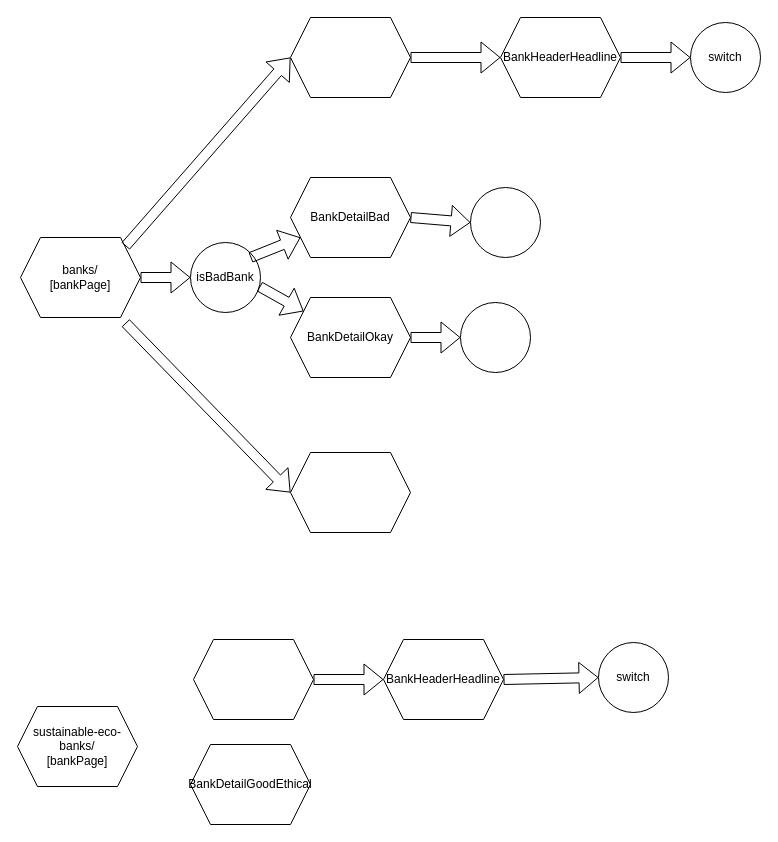
The diagram is 778 pixels wide and 842 high, and some of its shapes have lost their labels. Each missing label, with the box of its shape:
'great' vs rest: (460, 302, 530, 372)
'worst' vs 'bad': (470, 186, 540, 258)
BankFooter: (290, 452, 410, 532)
BankHeader: (290, 16, 410, 98)
BankHeaderEthical: (192, 638, 314, 720)
